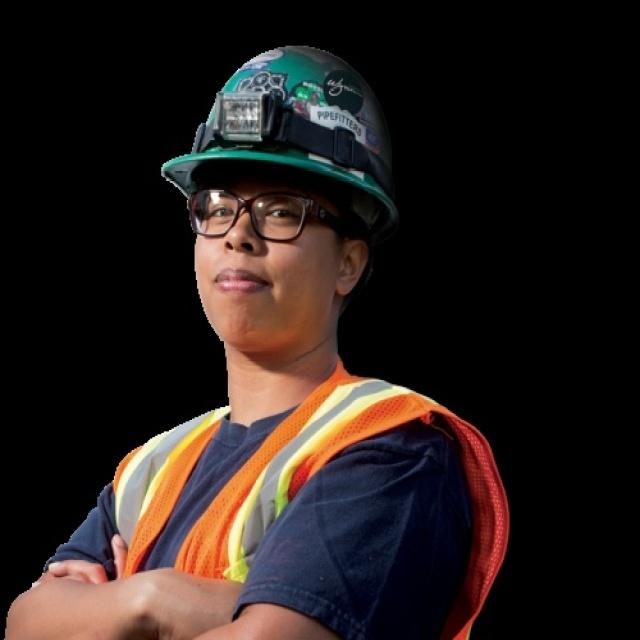helmet: (159, 56, 402, 463)
vest: (96, 523, 508, 640)
